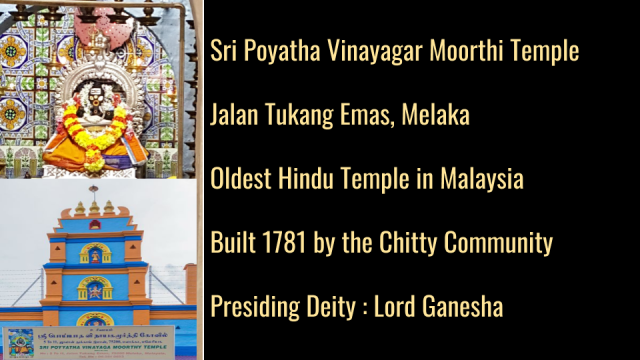Hindu Temple: (42, 32, 151, 170)
